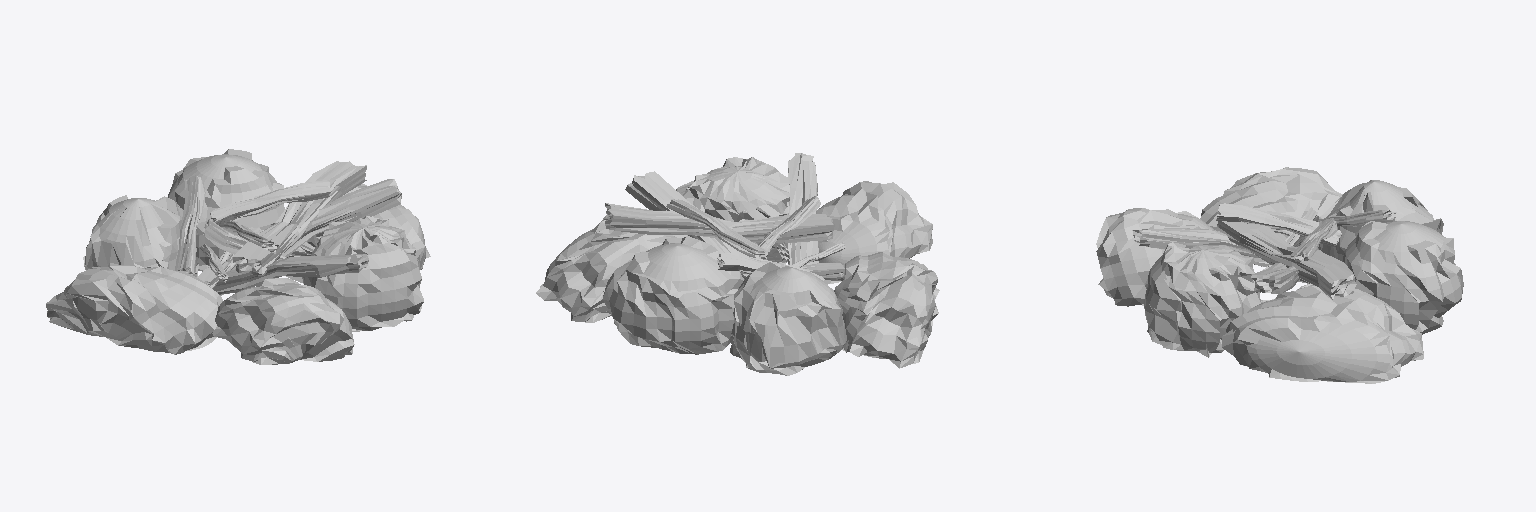
Rendered from campfire.obj.
3 renders of one model, left to right at view 1: azimuth 30°, elevation 25°; view 2: azimuth 150°, elevation 25°; view 3: azimuth 270°, elevation 25°, orthographic.
Visible parts, largest first — view 1: Sphere008, Sphere004, Sphere005, Sphere007, Sphere003, Box033, Box035, Box034, Box026, Box031, Sphere006, Box029 (+2 smaller); view 2: Sphere003, Sphere007, Sphere008, Sphere004, Sphere006, Sphere005, Box033, Box035, Box034, Box026, Box032, Box031; view 3: Sphere006, Sphere005, Sphere003, Sphere004, Sphere008, Box033, Sphere007, Box035, Box032, Box034, Box026, Box031.
Boxes of the visible parts, box(x1,y1,x2,y2) form: Sphere008: box(46, 263, 222, 354); Sphere004: box(212, 278, 354, 364); Sphere005: box(302, 216, 423, 331); Sphere007: box(83, 195, 198, 276); Sphere003: box(168, 149, 284, 271); Box033: box(233, 161, 366, 275); Box035: box(213, 253, 368, 294); Box034: box(220, 179, 401, 295); Box026: box(210, 180, 331, 224); Box031: box(175, 175, 205, 273); Sphere006: box(307, 183, 430, 269); Box029: box(203, 219, 303, 283); Sphere003: box(602, 236, 743, 354); Sphere007: box(730, 262, 848, 375); Sphere008: box(834, 252, 939, 368); Sphere004: box(817, 181, 932, 283); Sphere006: box(536, 215, 689, 322); Sphere005: box(676, 157, 789, 263); Box033: box(604, 203, 834, 242); Box035: box(787, 153, 818, 265); Box034: box(625, 171, 748, 279); Box026: box(666, 199, 769, 259); Box032: box(758, 196, 820, 250); Box031: box(717, 253, 824, 280); Sphere006: box(1222, 285, 1423, 383); Sphere005: box(1144, 242, 1260, 357); Sphere003: box(1343, 221, 1463, 334); Sphere004: box(1096, 208, 1213, 306); Sphere008: box(1200, 167, 1342, 266); Box033: box(1215, 221, 1356, 299); Sphere007: box(1317, 180, 1443, 261); Box035: box(1132, 228, 1269, 266); Box032: box(1216, 203, 1341, 246); Box034: box(1251, 263, 1309, 294); Box026: box(1291, 218, 1337, 261); Box031: box(1318, 210, 1396, 226).
Bounding box in the file's own units: 145 × 35.96 × 128.